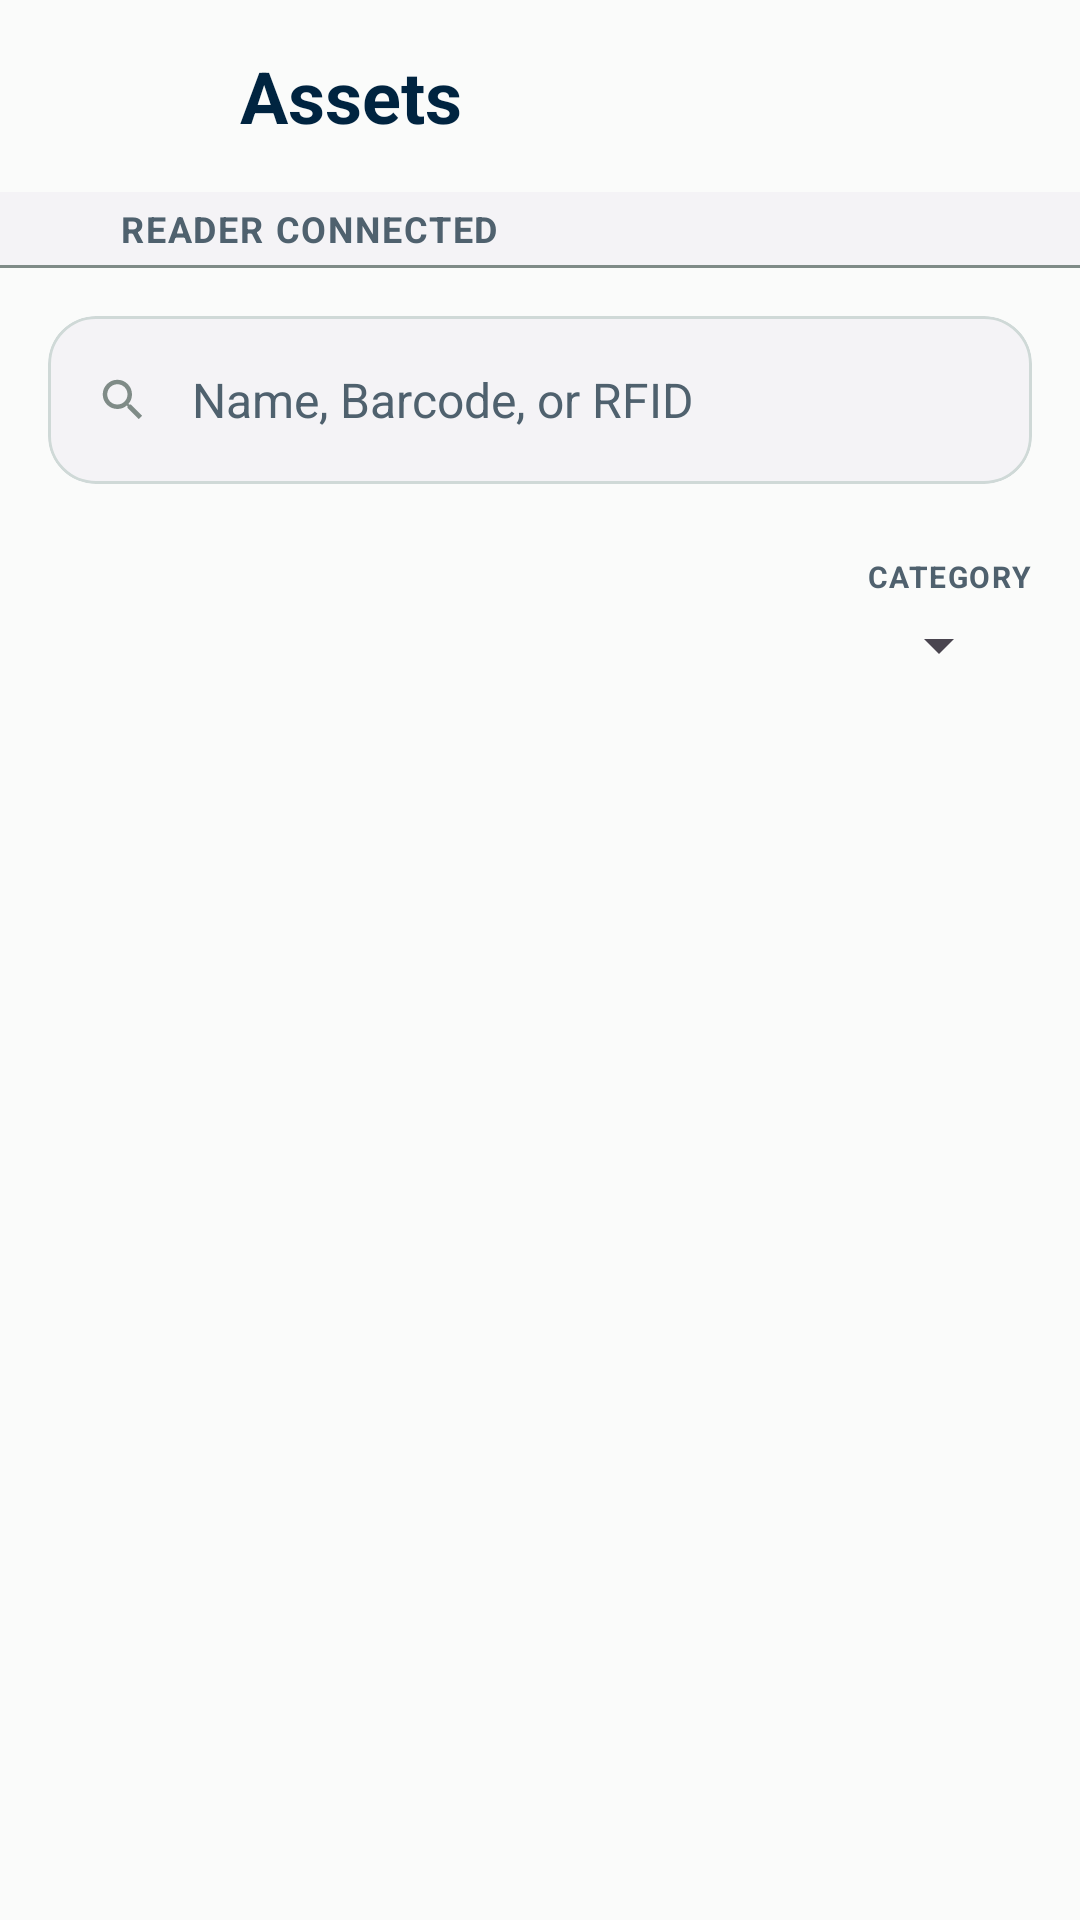

Point at icon controls on the screen. Image size 1080 × 1920, points as (x=x, y=y).
search: (x=122, y=399)
